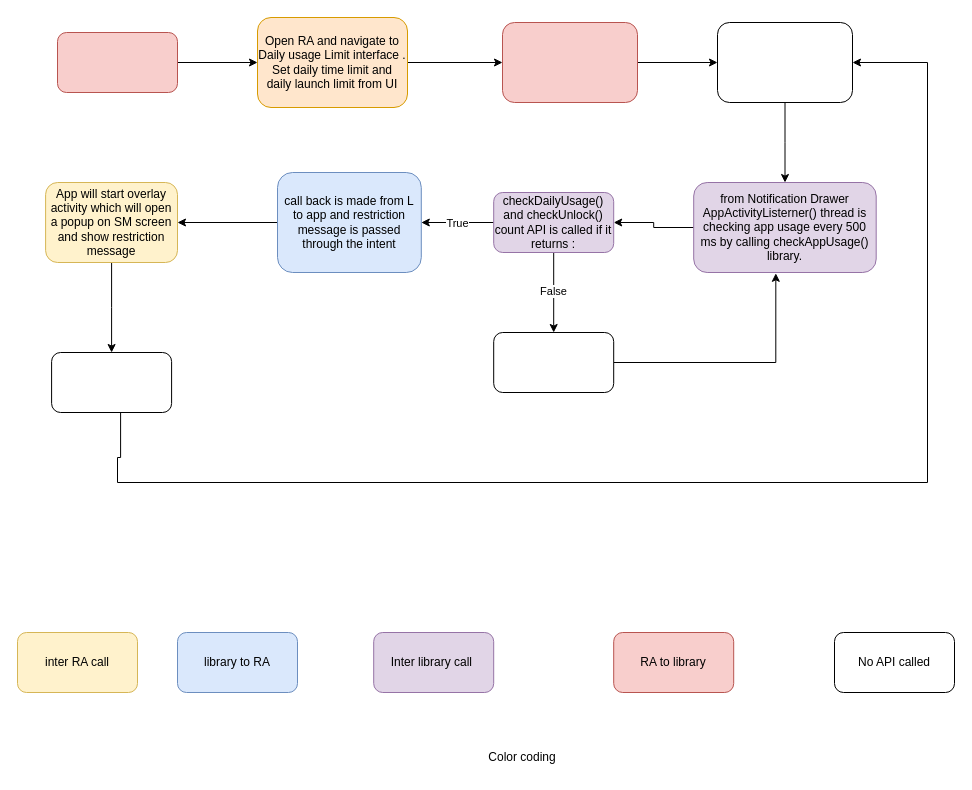
This 972x790 diagram has some shape labels left out. Here are the shapes that lost their labels. From the top down, the centre of each, then its label:
point (117, 62): appActivity thread of RA starts listening from notification drawer
point (570, 62): SetDailyUsageLimit() API is called from app and data is stored.
point (784, 62): User open the SM app
point (111, 382): User closes the SM app
point (553, 362): permit the user to use to use sm
